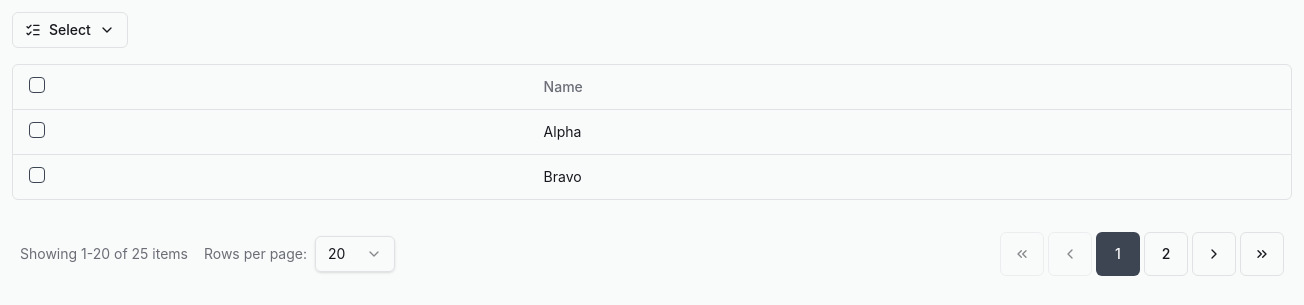
Test: exposes page and filtered all-page commands in one menu and clears without invoking an action
This screenshot has width=1304, height=305.
What coordinates should you click on to do the following:
click the button with aria-label "Row selection"
I would click on:
 (70, 30)
Its box is x1=12 y1=12 x2=128 y2=48.
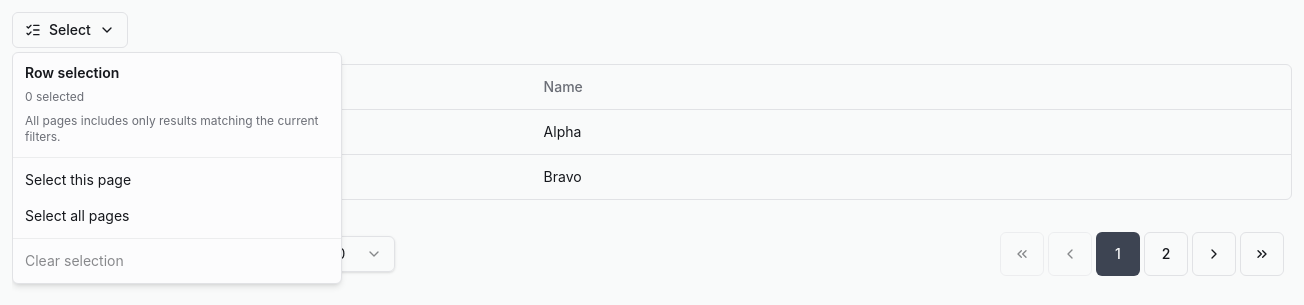
Check: the text "All pages includes only results matching the current filters." is shown, box x1=17 y1=113 x2=337 y2=153
What coordinates should you click on to do the following:
click the menu item "Select all pages"
I would click on:
 (77, 216)
Its box is x1=25 y1=207 x2=130 y2=224.
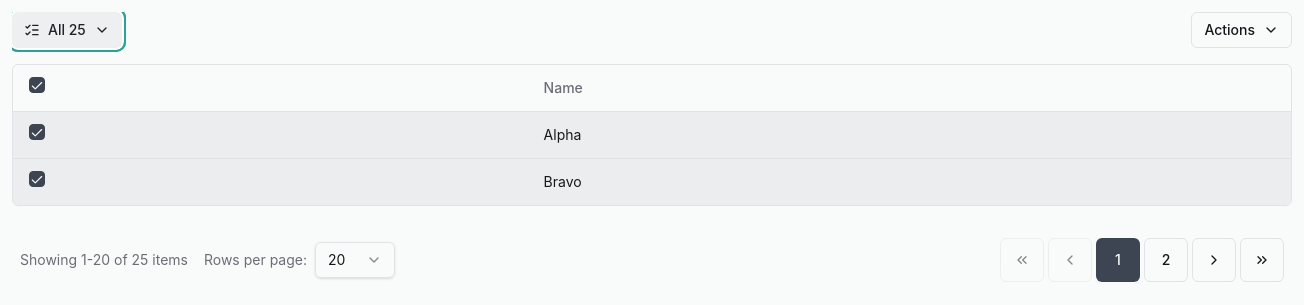
Check: the button with aria-label "Row selection" reads "All 25", box x1=12 y1=12 x2=122 y2=48
What coordinates should you click on to do the following:
click the checkbox named "Select Alpha"
I would click on:
 (37, 132)
Its box is x1=29 y1=124 x2=45 y2=140.
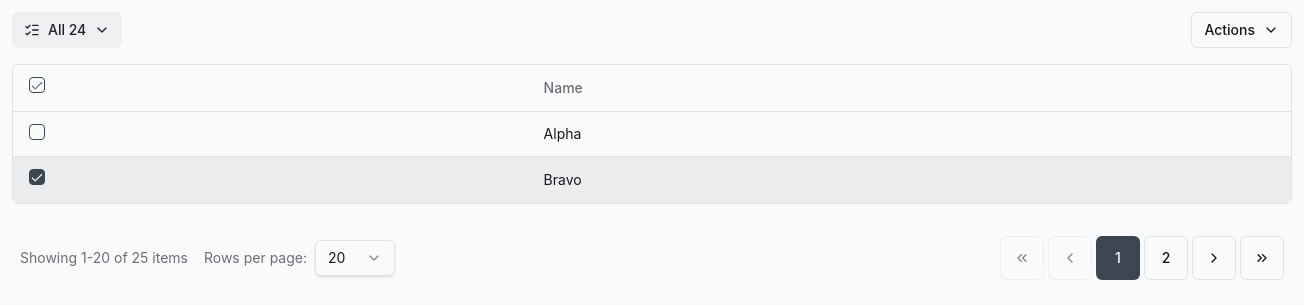
What coordinates should you click on to do the following:
click the button with aria-label "Row selection"
I would click on:
 (67, 30)
Its box is x1=12 y1=12 x2=122 y2=48.
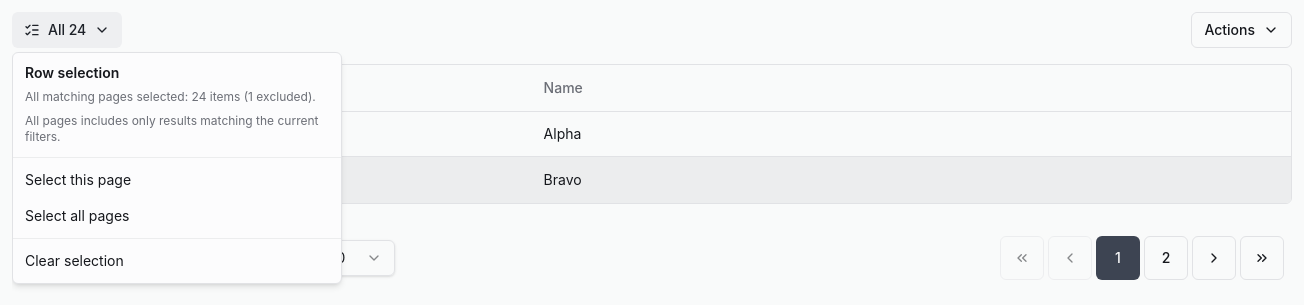
What coordinates should you click on to do the following:
click the menu item "Clear selection"
I would click on:
 (74, 260)
Its box is x1=25 y1=252 x2=124 y2=269.
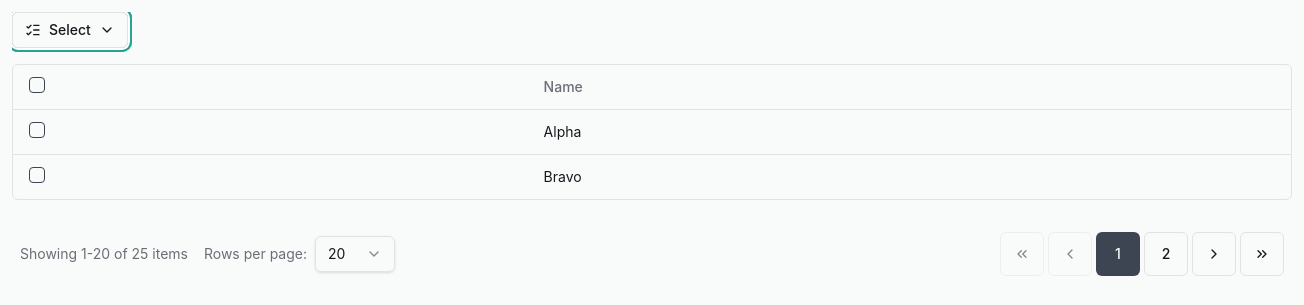
Check: the button "Actions" is gone
